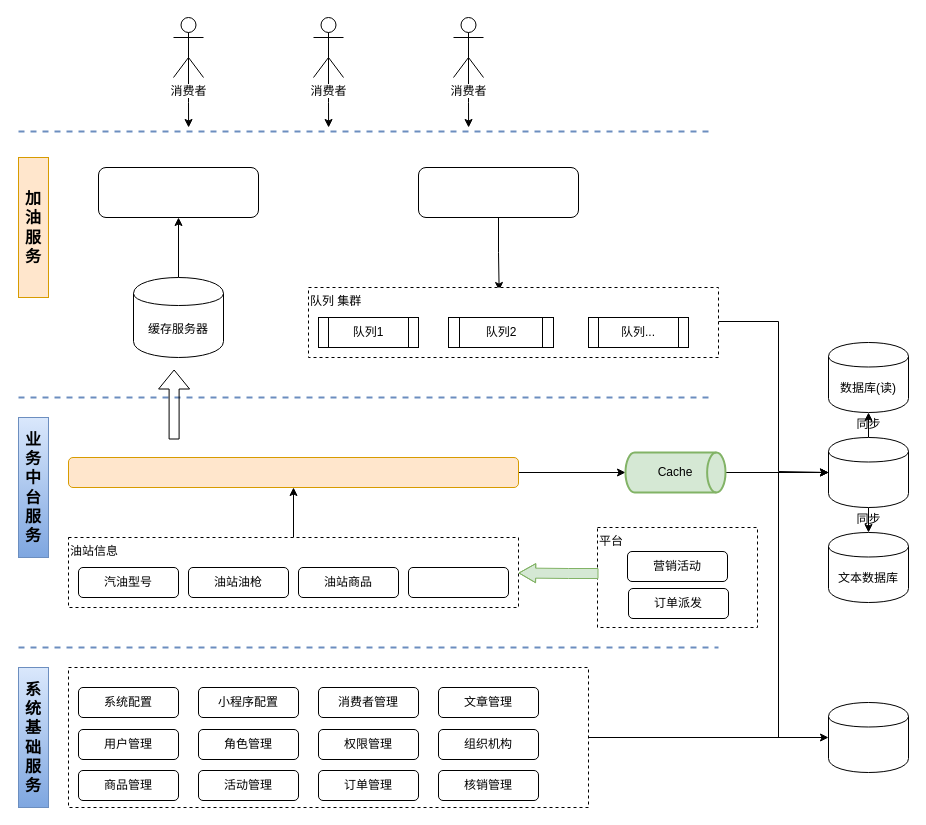
Some shapes in this 926 by 825 pixel diagram are drawn without their labels. The shapes that lost their labels are listed below. From the top down, each one's centre as x and y in pixels, then its label:
At [178,192]: "油站、油价、活动浏览".
At [498,192]: "下订单".
At [293,472]: "油站".
At [868,472]: "数据库(写)".
At [458,582]: "油站活动".
At [868,737]: "CMS DB".
